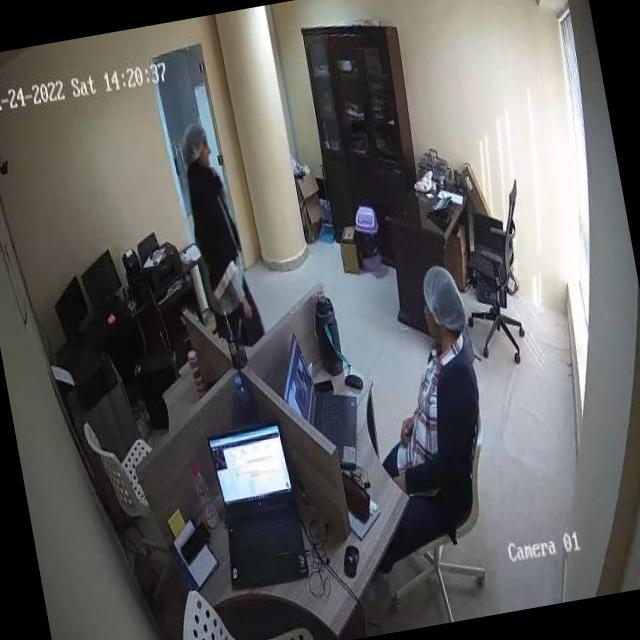hairnet: (421, 260, 472, 338), (180, 122, 202, 162)
